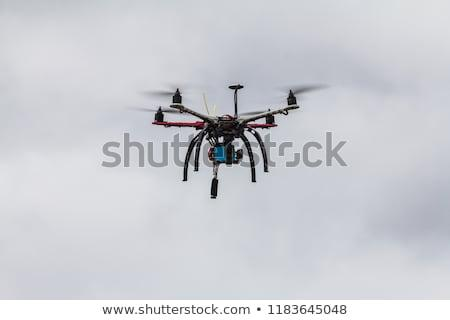drone: (130, 77, 318, 168)
